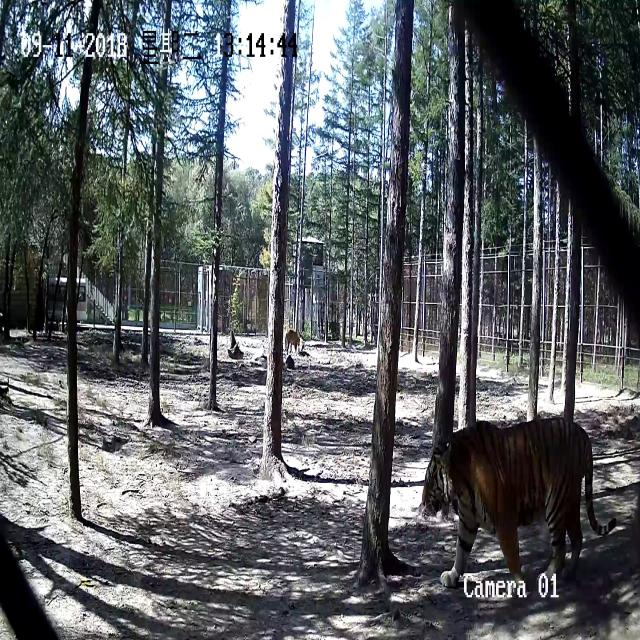Tiger: (411, 412, 618, 594)
